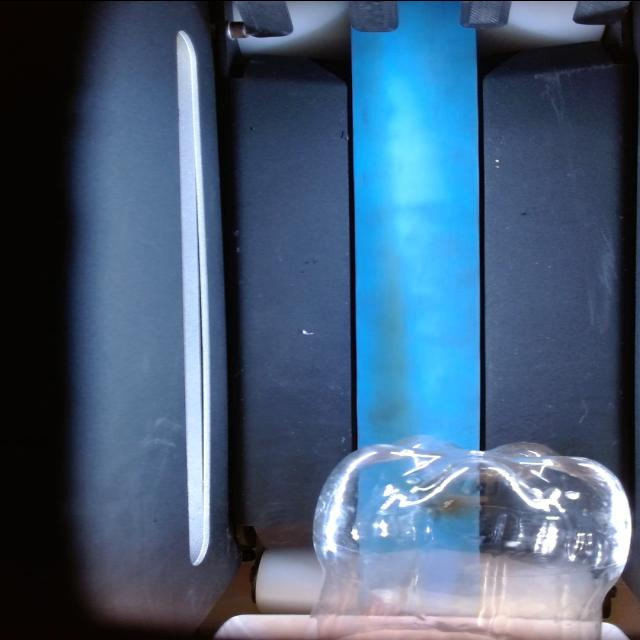bottom: (313, 440, 629, 640)
